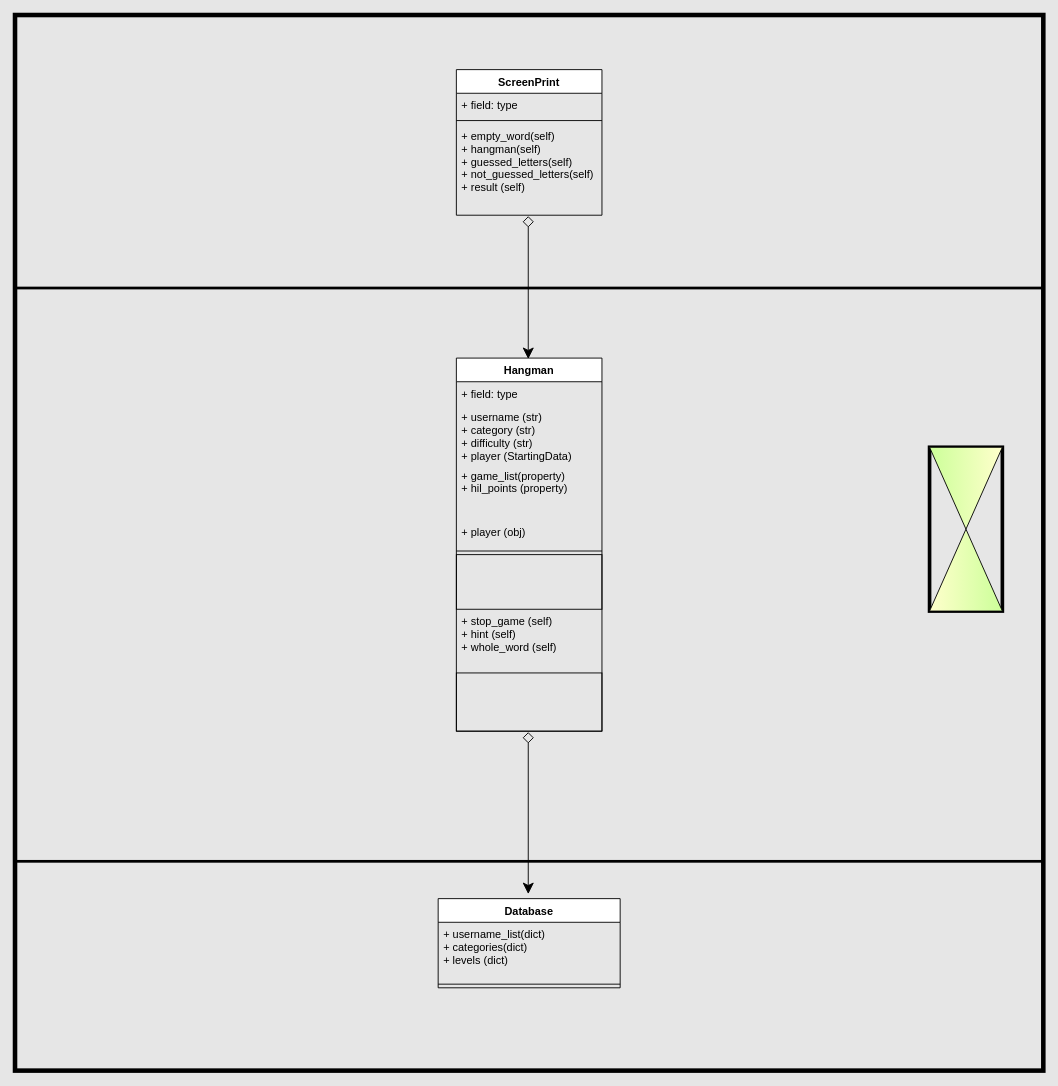
Image size: 1058x1086. Some labels were removed from this diagram. Here are the shapes that lost their labels. From the top down, the centre of each, then its label:
At (x=528, y=581): "+ loading_data(self) + saving_data (self)".
At (x=528, y=701): "+ username (str) + HIL points(int)".
